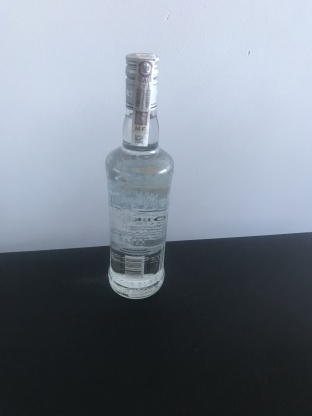nakretka: (122, 49, 161, 113)
